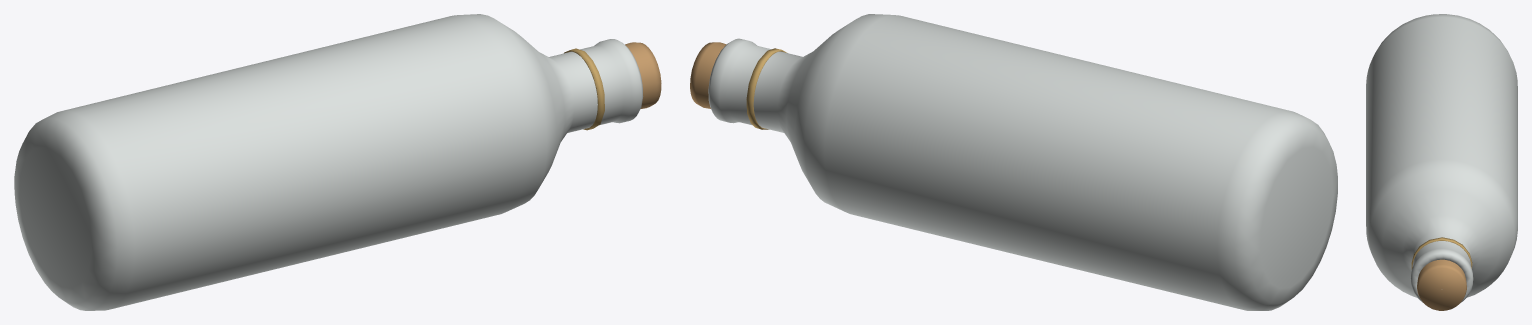
File: submarine-bottle-v6-game-preview-v2.fbx
3 views of the same model, side by side, from view 1: azimuth 30°, elevation 25°; view 2: azimuth 150°, elevation 25°; view 3: azimuth 270°, elevation 25° (orthographic). The views are drawn at different scales.
Parts seen in each view (by area): view 1: Bottle | lightweight transparent glass, Submarine | lightweight opaque assembly; view 2: Bottle | lightweight transparent glass, Submarine | lightweight opaque assembly; view 3: Bottle | lightweight transparent glass, Submarine | lightweight opaque assembly.
Part boxes in pixels (<box>): Bottle | lightweight transparent glass: <box>14,14,643,310</box>; Submarine | lightweight opaque assembly: <box>564,42,661,130</box>; Bottle | lightweight transparent glass: <box>708,14,1337,310</box>; Submarine | lightweight opaque assembly: <box>690,42,786,129</box>; Bottle | lightweight transparent glass: <box>1366,14,1517,302</box>; Submarine | lightweight opaque assembly: <box>1411,237,1472,310</box>.
Size of the model in its own units: 188 by 56.42 by 56.4.
